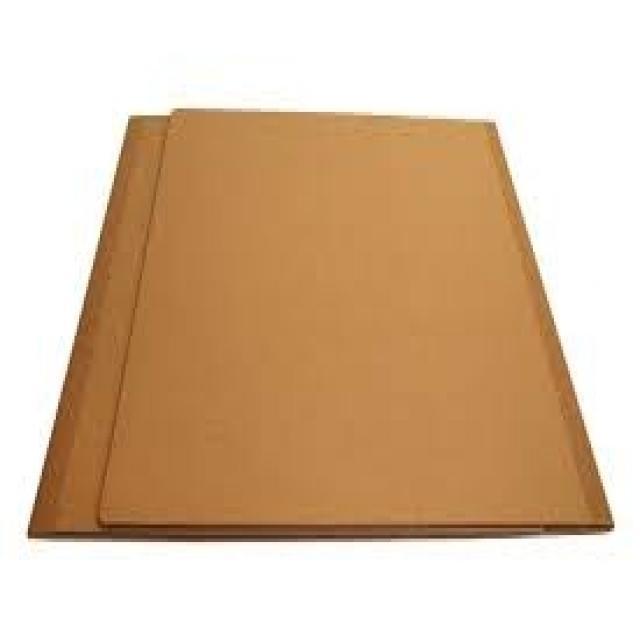cardboard paper: (28, 109, 610, 535)
